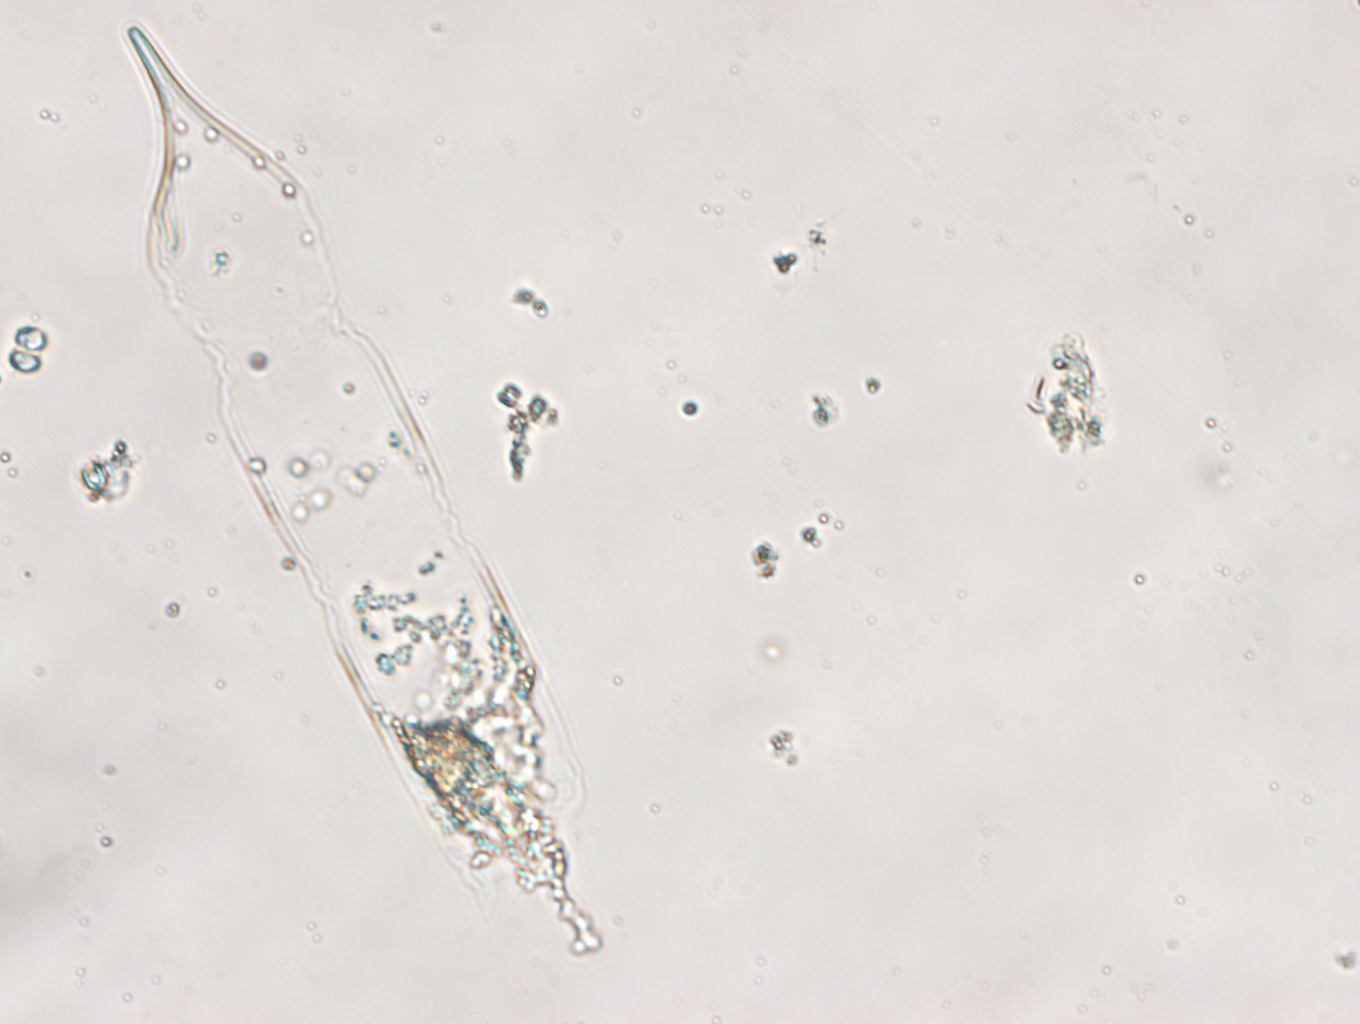rhizosolenia: (121, 22, 609, 959)
